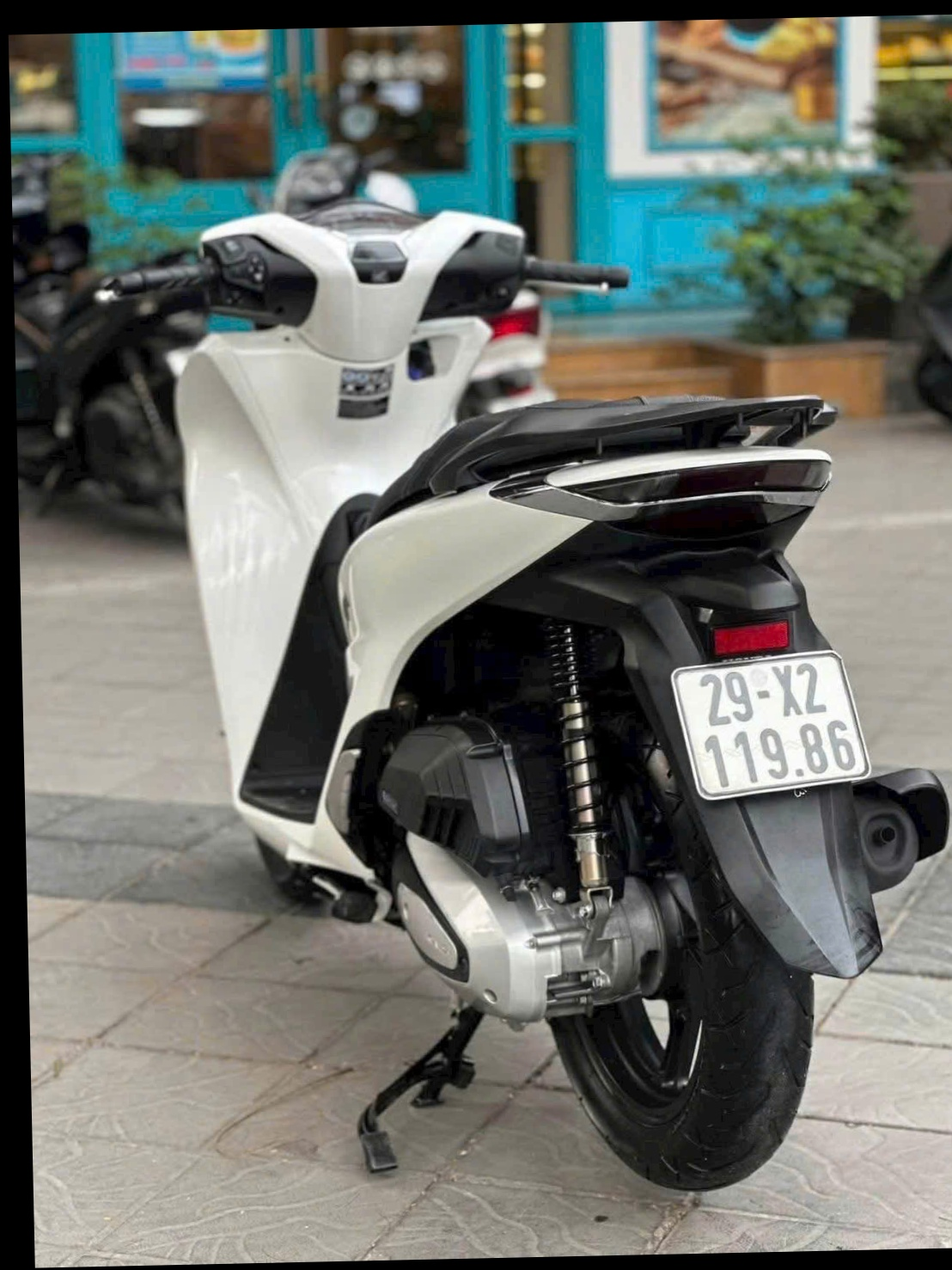Bien-so: (631, 690, 811, 837)
